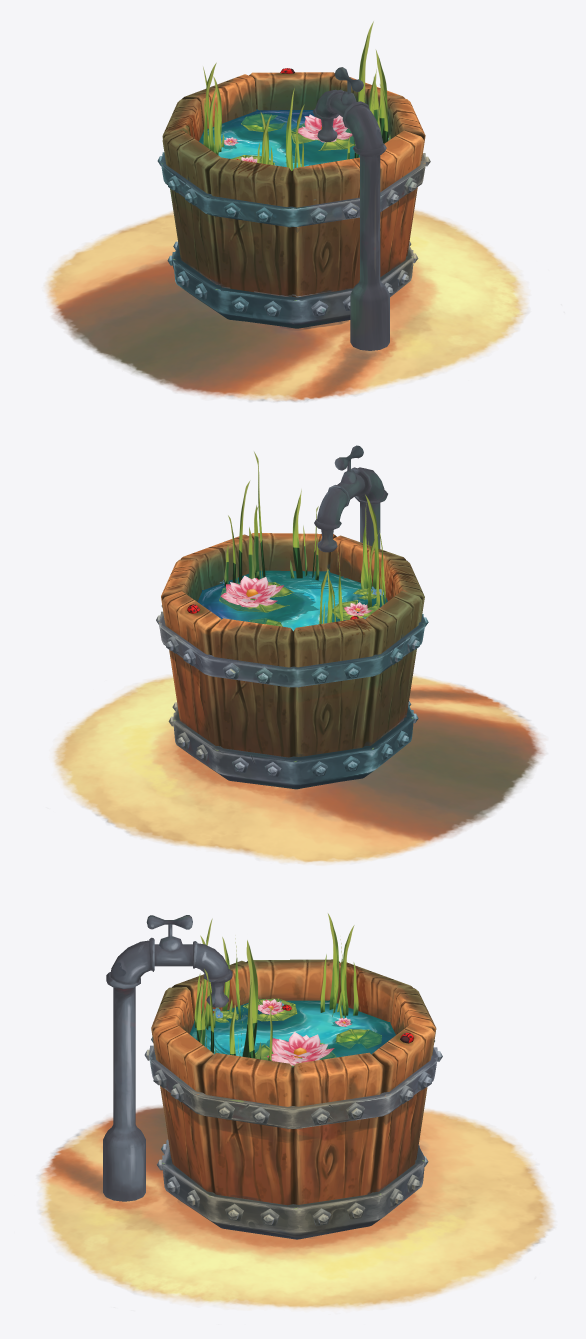
The model's file is bucket_environment.glb.
3 renders of one model, top to bottom at view 1: azimuth 30°, elevation 25°; view 2: azimuth 150°, elevation 25°; view 3: azimuth 270°, elevation 25°, orthographic. The views are drawn at different scales.
Parts seen in each view (by area): view 1: Object_2, Object_4, Object_5, Object_3, Object_8, Object_7; view 2: Object_2, Object_4, Object_3, Object_5, Object_8, Object_7; view 3: Object_2, Object_4, Object_5, Object_3, Object_8, Object_7.
Part boxes in pixels (box(x1,y1,x2,y2)): Object_2: box(44, 209, 527, 401); Object_4: box(162, 72, 425, 297); Object_5: box(199, 67, 389, 350); Object_3: box(160, 68, 426, 328); Object_8: box(203, 21, 390, 170); Object_7: box(157, 152, 430, 317); Object_2: box(53, 674, 544, 864); Object_4: box(161, 533, 424, 757); Object_3: box(158, 575, 425, 789); Object_5: box(197, 445, 387, 631); Object_8: box(219, 451, 386, 624); Object_7: box(156, 605, 428, 776); Object_2: box(38, 1105, 554, 1309); Object_4: box(151, 959, 436, 1205); Object_5: box(103, 915, 395, 1201); Object_3: box(149, 998, 437, 1239); Object_8: box(194, 913, 358, 1060); Object_7: box(144, 1037, 442, 1226).
Bounding box in the file's own units: 6.83 × 4.12 × 6.81.
Materials: 6 (6 with a texture image).
